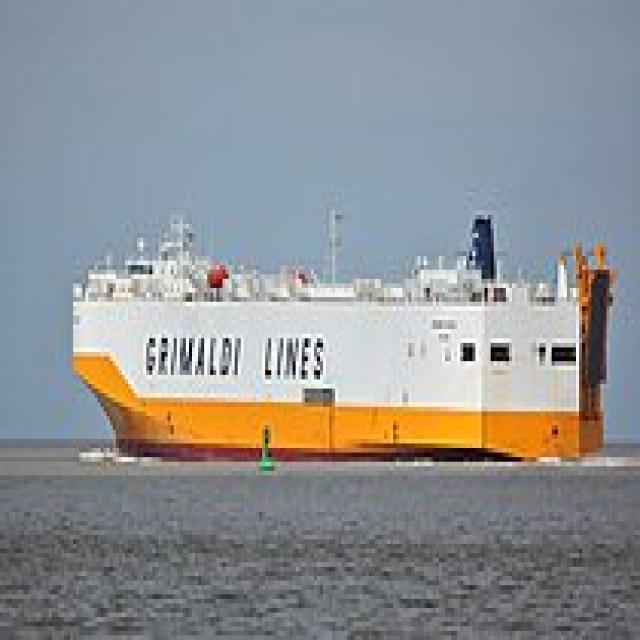Carrier: (64, 192, 613, 462)
